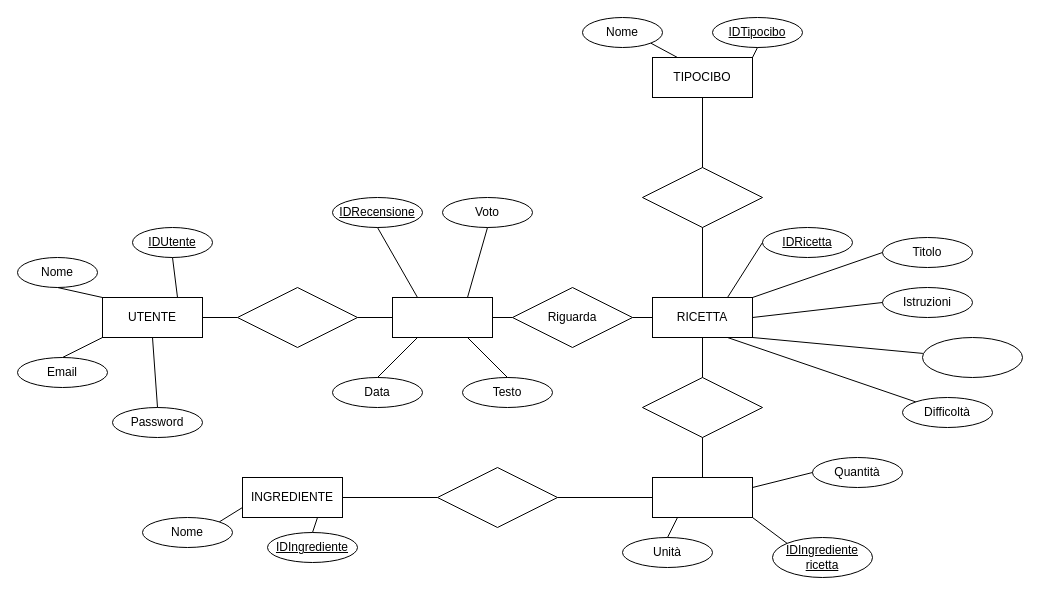
This 1040x595 diagram has some shape labels left out. The shapes that lost their labels are listed below. From the top down, each one's centre as x and y in pixels, then its label:
At [702,197]: "È di tipo".
At [297,317]: "Scrive".
At [442,317]: "RECENSIONE".
At [972,357]: "Tempo Preparazione".
At [702,407]: "Contiene".
At [497,497]: "Usa".
At [702,497]: "INGREDIENTE RICETTA".
